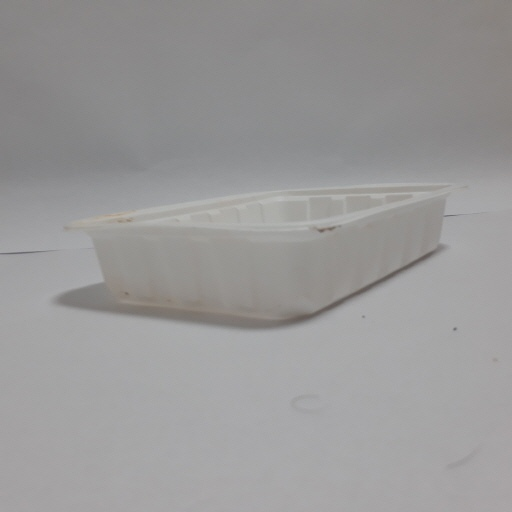Plastic_4: (61, 185, 453, 325)
